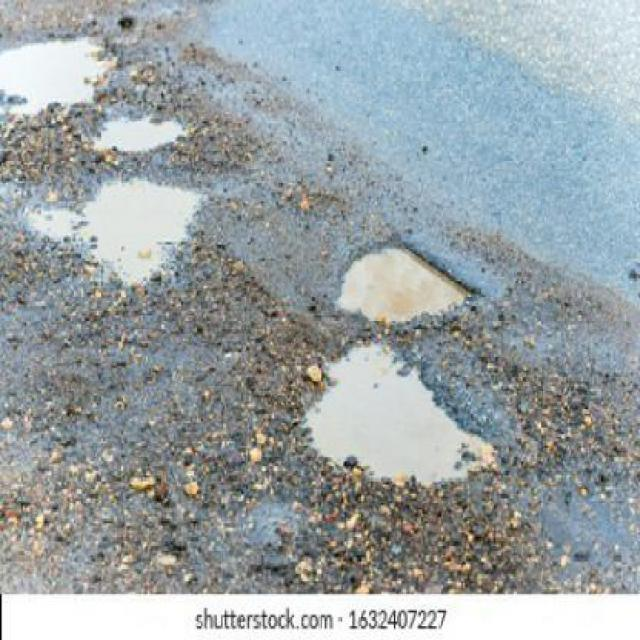Pothole: (300, 343, 494, 485), (25, 174, 214, 294), (334, 238, 477, 324), (0, 30, 125, 121), (89, 115, 194, 157)
